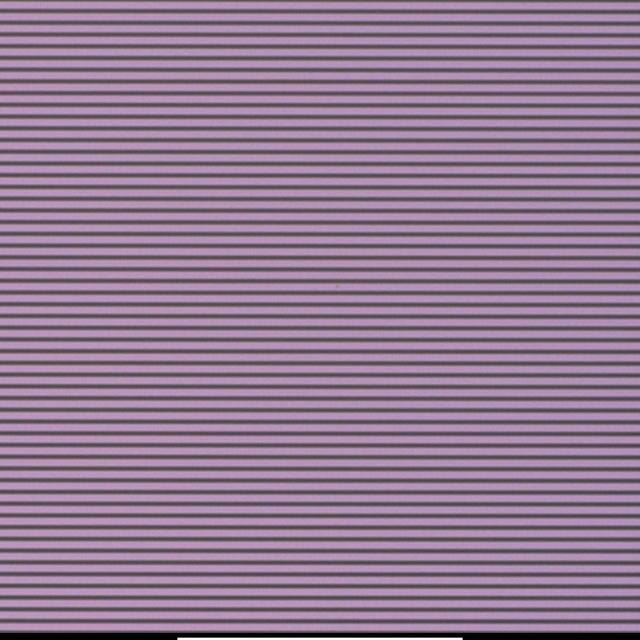nonvisual: (335, 283, 343, 291)
